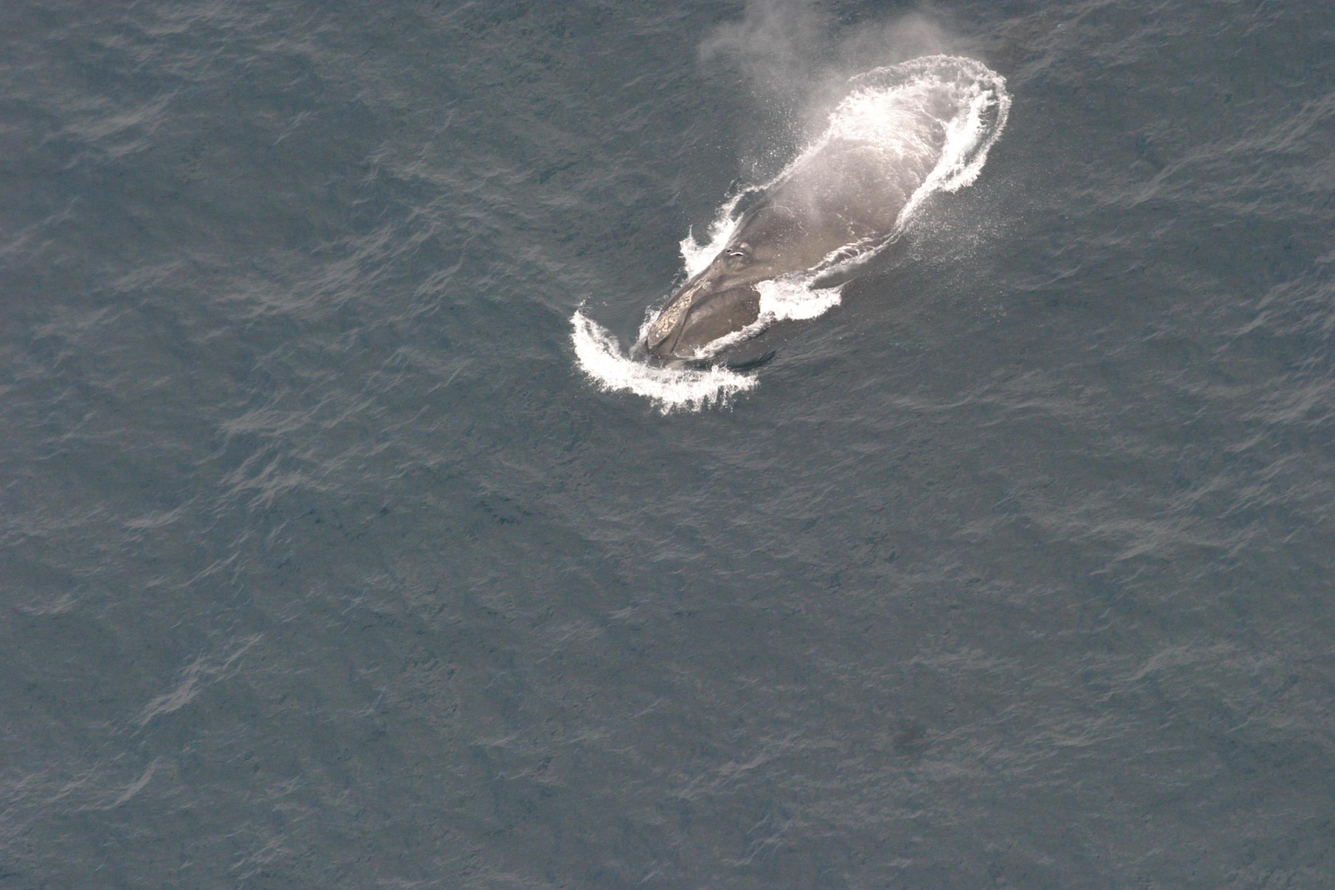whale: (616, 0, 1078, 401)
